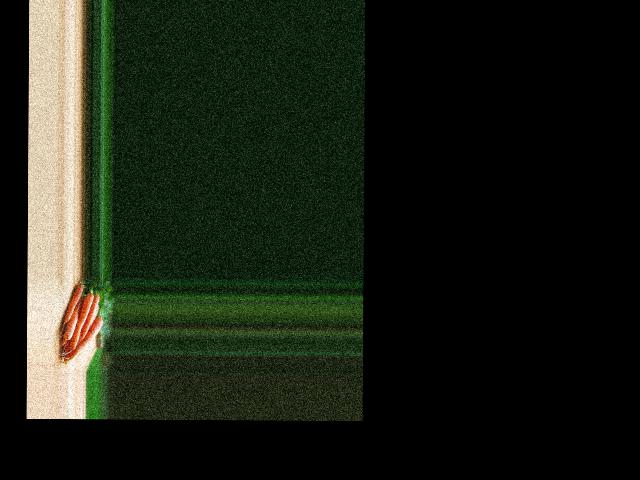carrot: (56, 282, 82, 327)
